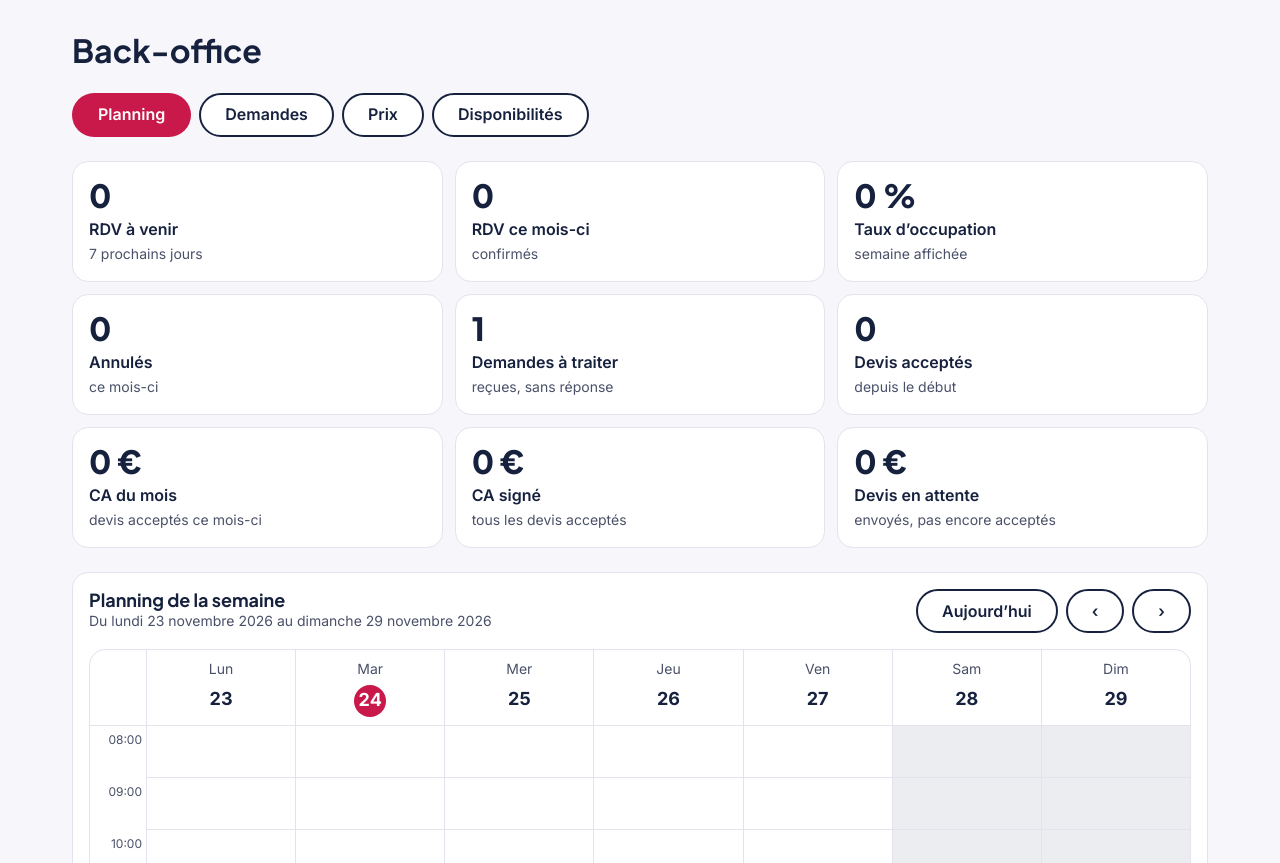
Test: Back-office : demandes › affiche le refus de l’API et remet le statut d’origine
Click the button "Demandes".
click(267, 115)  # box [199,93,334,137]
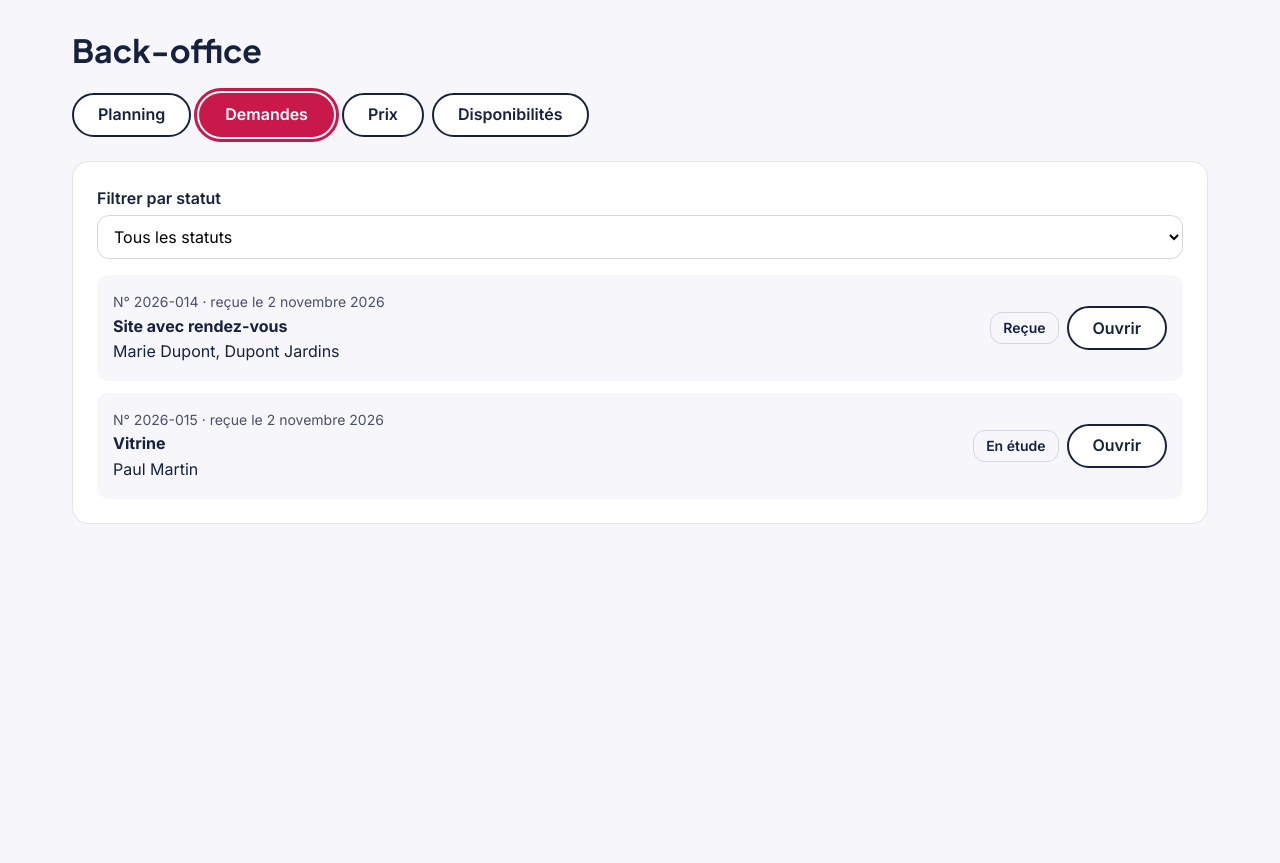
Click the button with aria-label "Ouvrir la demande 2026-014".
click(1117, 328)  # box [1066,306,1167,350]
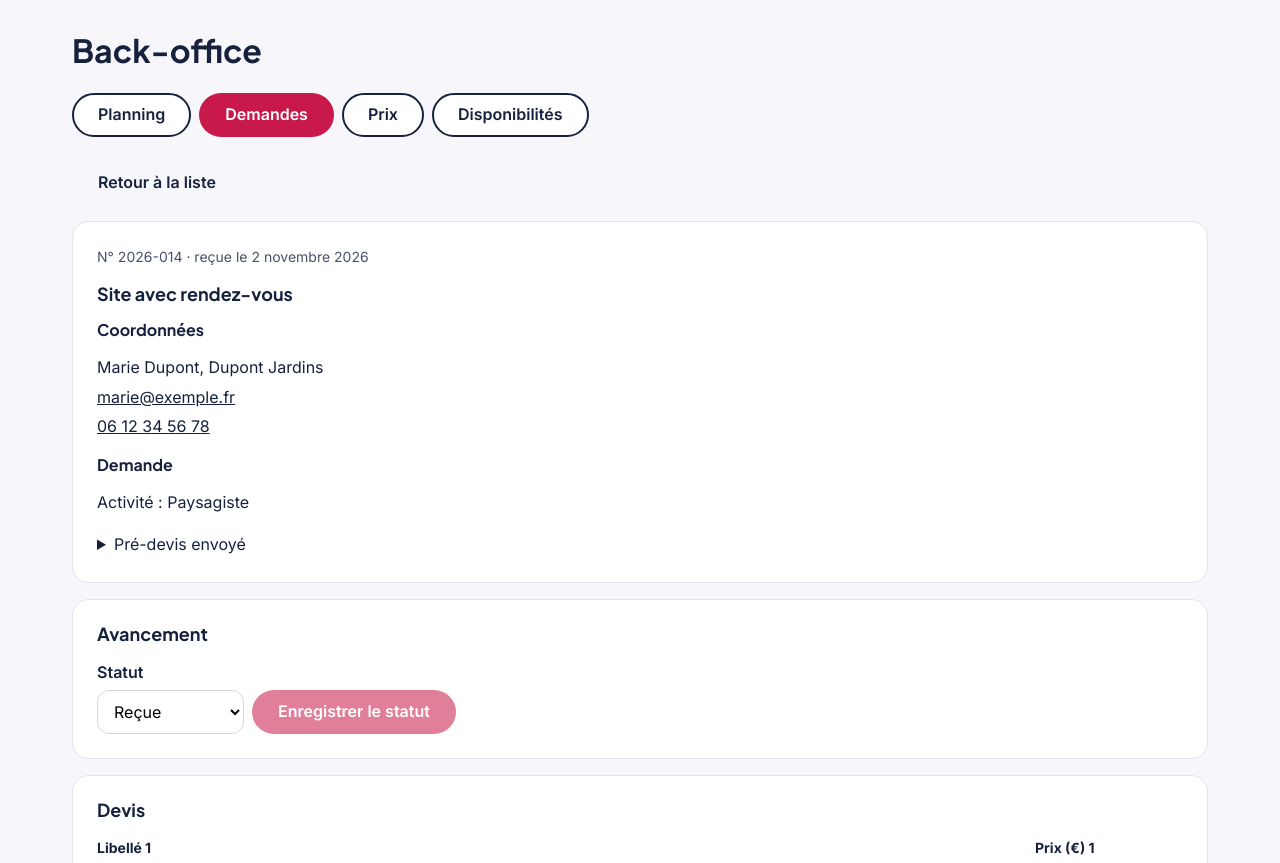
expect the heading "Site avec rendez-vous" is shown: met, box [97,282,293,305]
Select "Devis envoyé" in the dropdown labelled "Statut" at (170, 712), box [97,690,244,734]
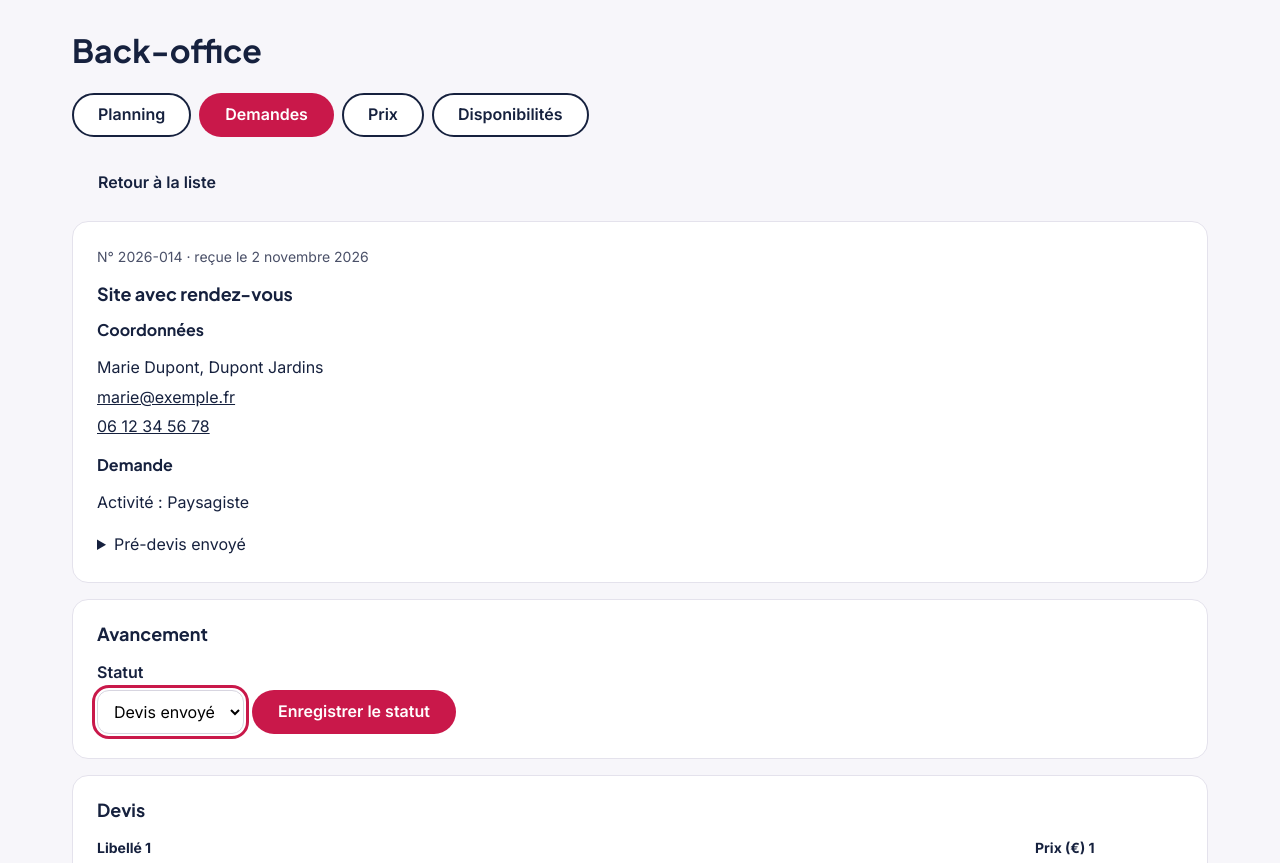
Click the button "Enregistrer le statut".
click(354, 712)  # box [252,690,456,734]
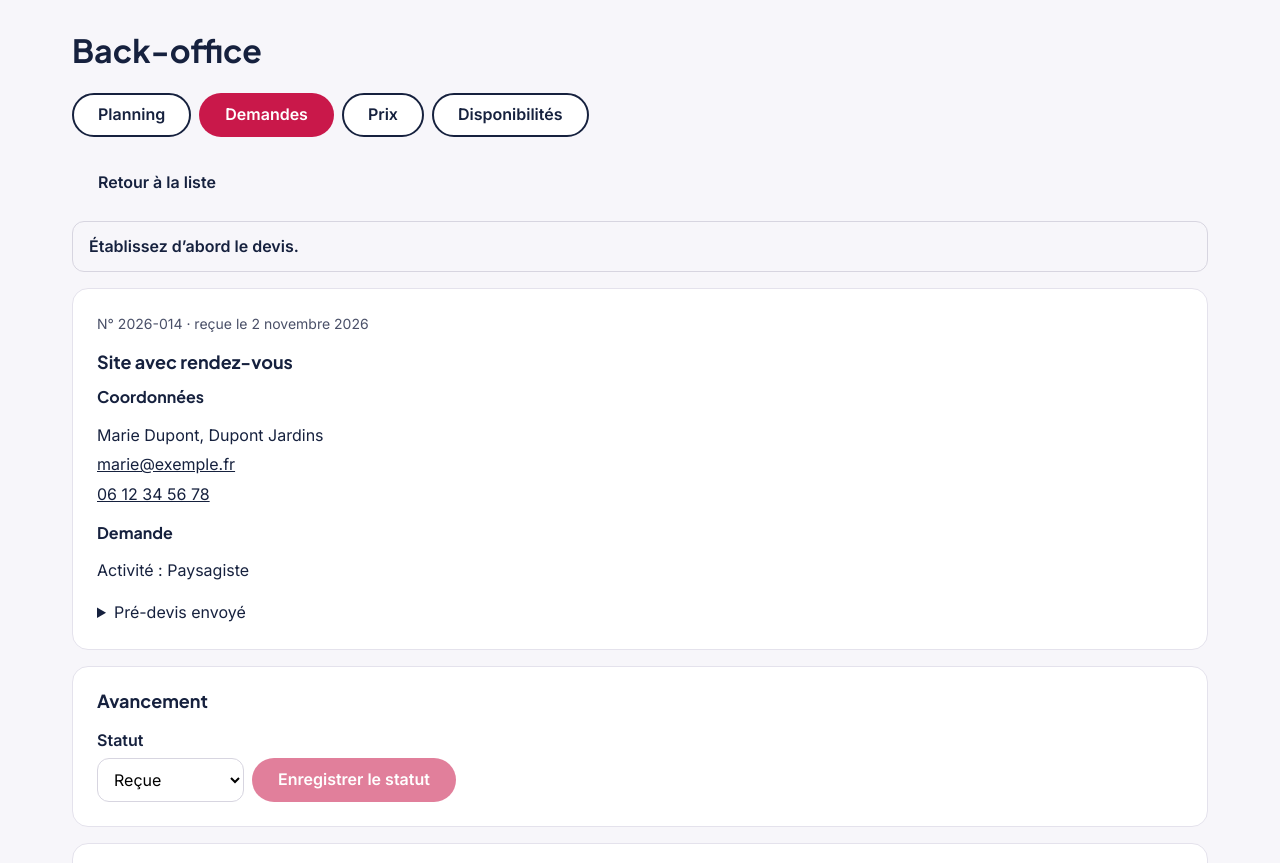
expect the message reads "Établissez d’abord le devis.": met, box [89,236,299,256]
